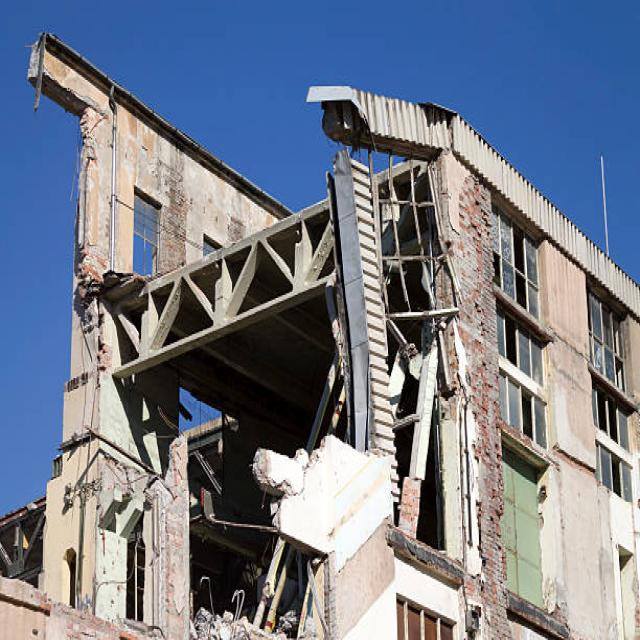Destroyed_building: (4, 4, 629, 640)
